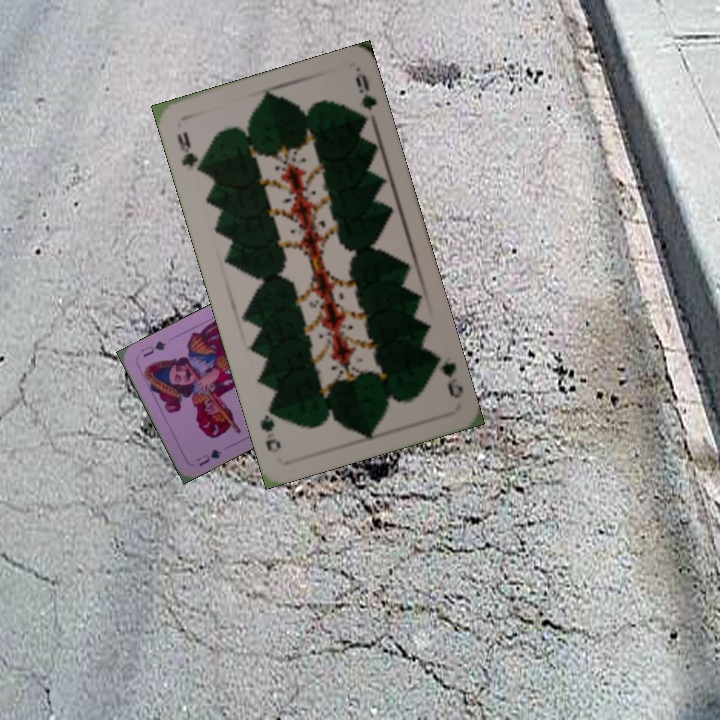G9: (428, 349, 466, 401), (172, 127, 207, 177)
GU: (192, 445, 224, 469)
